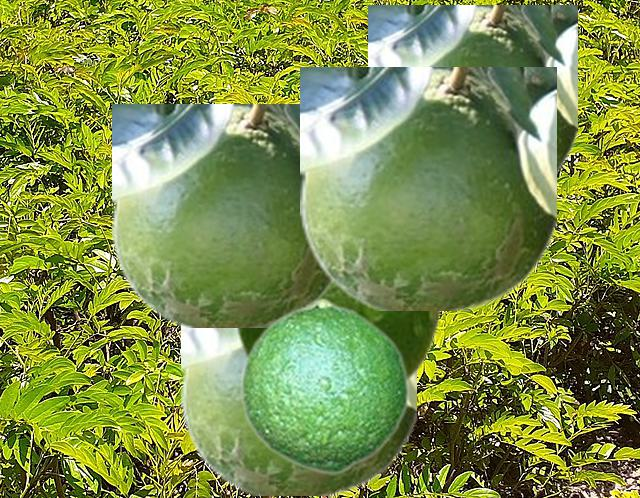dalandan: (300, 67, 555, 309), (112, 104, 332, 326), (181, 327, 415, 494), (368, 5, 576, 177), (238, 297, 409, 474), (234, 286, 442, 383)
